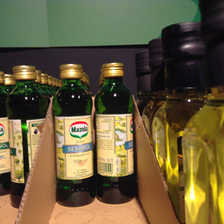oil: (53, 64, 95, 208), (6, 65, 47, 208), (94, 62, 135, 203)
